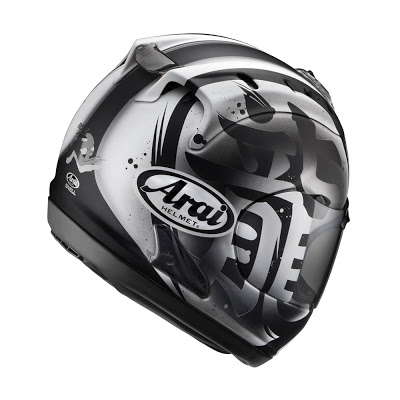helmet: (36, 11, 352, 368)
